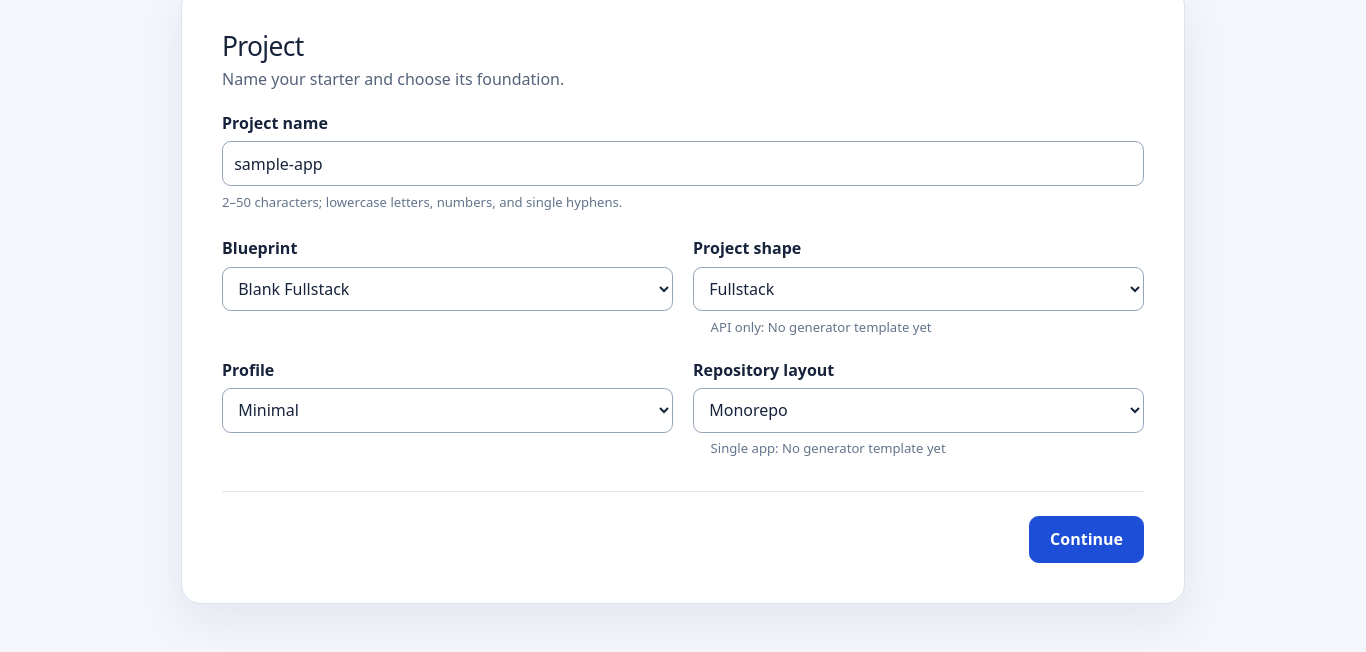
configuration wizard › rejects an invalid config update without changing the selected choice
(page scrolled)
Expected: the dropdown with id "blueprint" shows "Blank Fullstack", x1=222 y1=267 x2=673 y2=311
Click the submit button at (1087, 539), box x1=1029 y1=516 x2=1144 y2=563
(page scrolled)
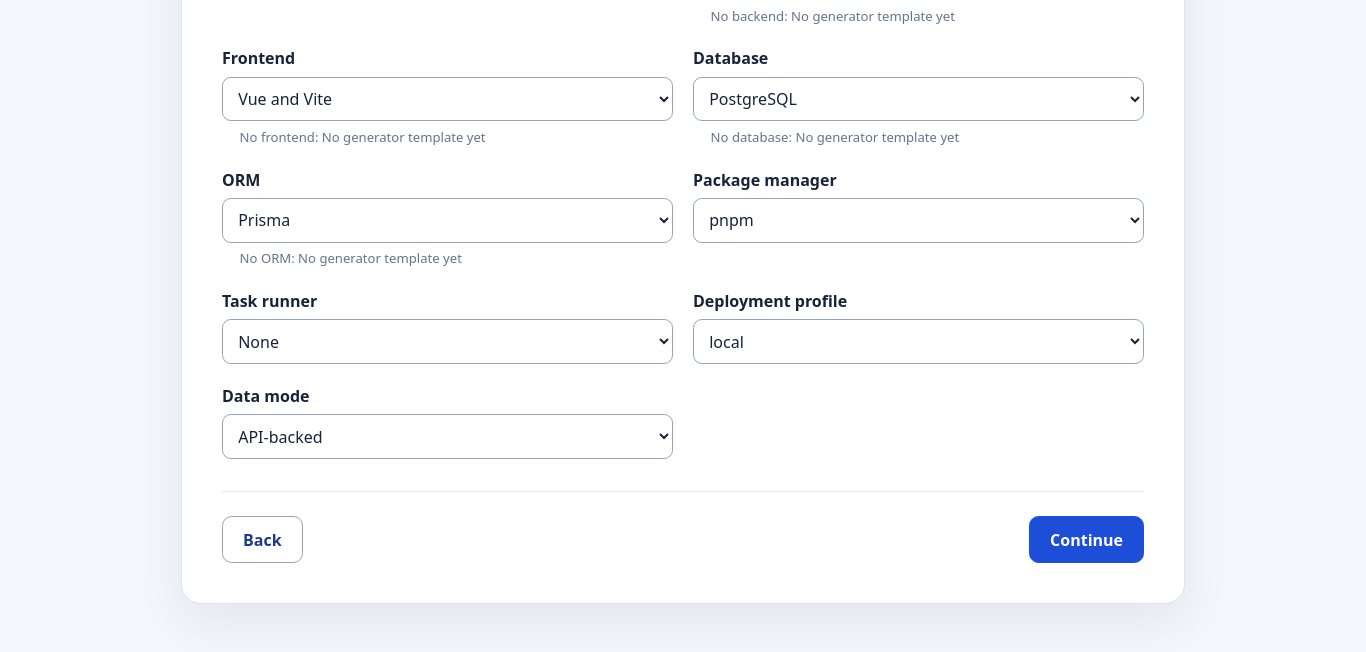
Click the button with aria-label "Back to Project" at (262, 540), box x1=222 y1=516 x2=303 y2=563
(page scrolled)
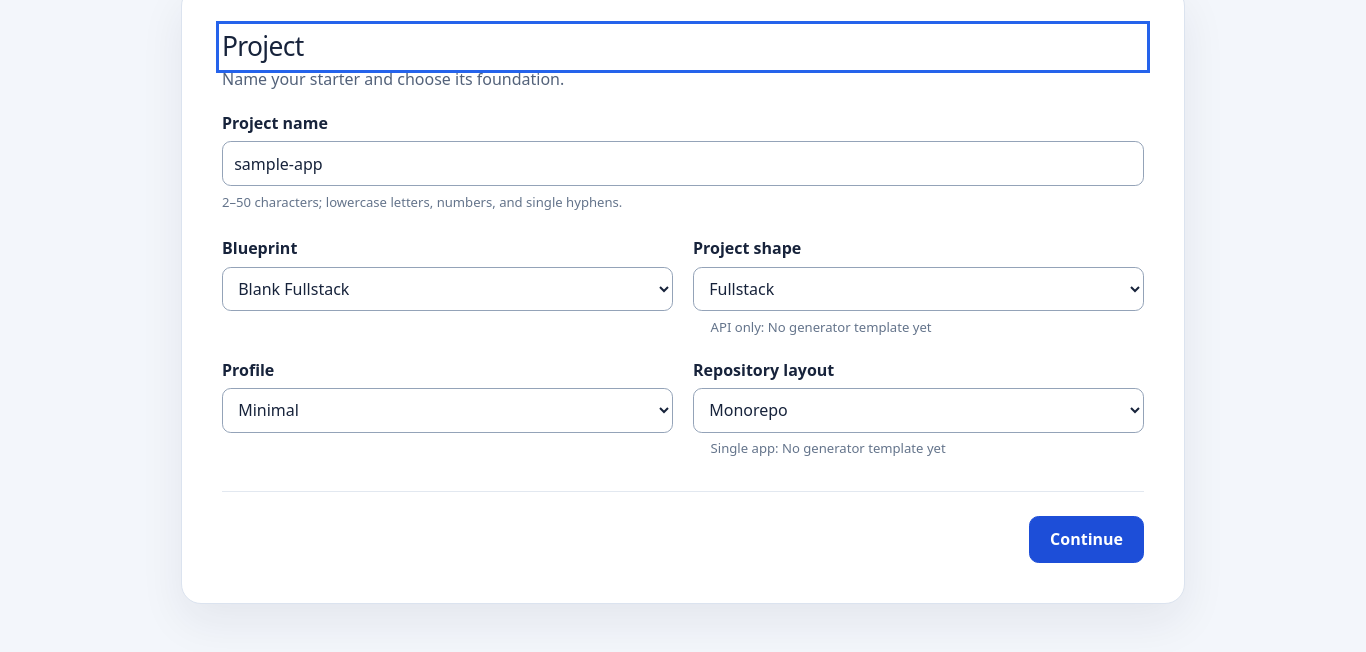
Expected: the dropdown with id "blueprint" shows "Blank Fullstack", x1=222 y1=267 x2=673 y2=311
